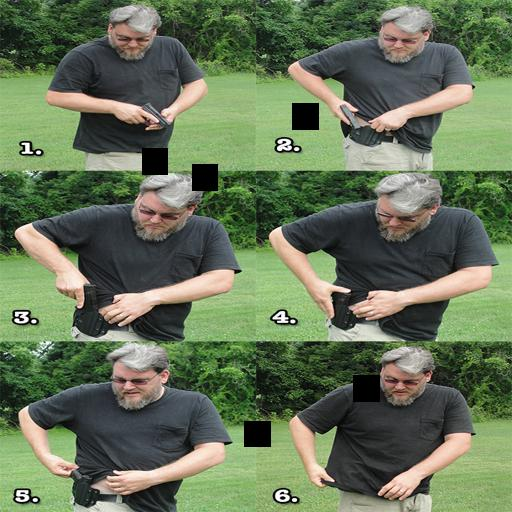Handgun: (125, 101, 172, 128), (327, 287, 353, 330), (62, 467, 92, 504), (66, 282, 103, 310), (335, 103, 362, 130)
